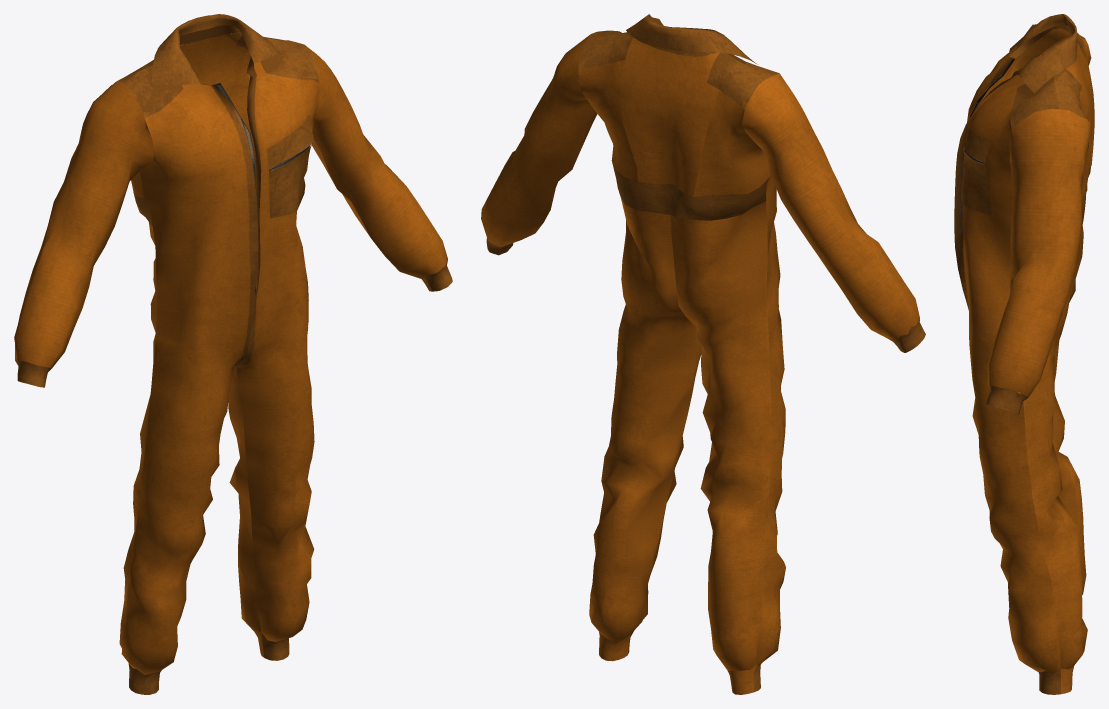
File: Overall.fbx
The picture shows the model from 3 angles, left to right: view 1: azimuth 30°, elevation 25°; view 2: azimuth 150°, elevation 25°; view 3: azimuth 270°, elevation 25°; orthographic projection. The views are drawn at different scales.
Parts seen in each view (by area): view 1: low; view 2: low; view 3: low.
Part boxes in pixels (box(x1,y1,x2,y2)): low: box(14, 14, 452, 694); low: box(481, 14, 925, 694); low: box(954, 14, 1094, 694).
Size of the model in its own units: 1089 by 1574 by 316.
Materials: 1 (1 with a texture image).
